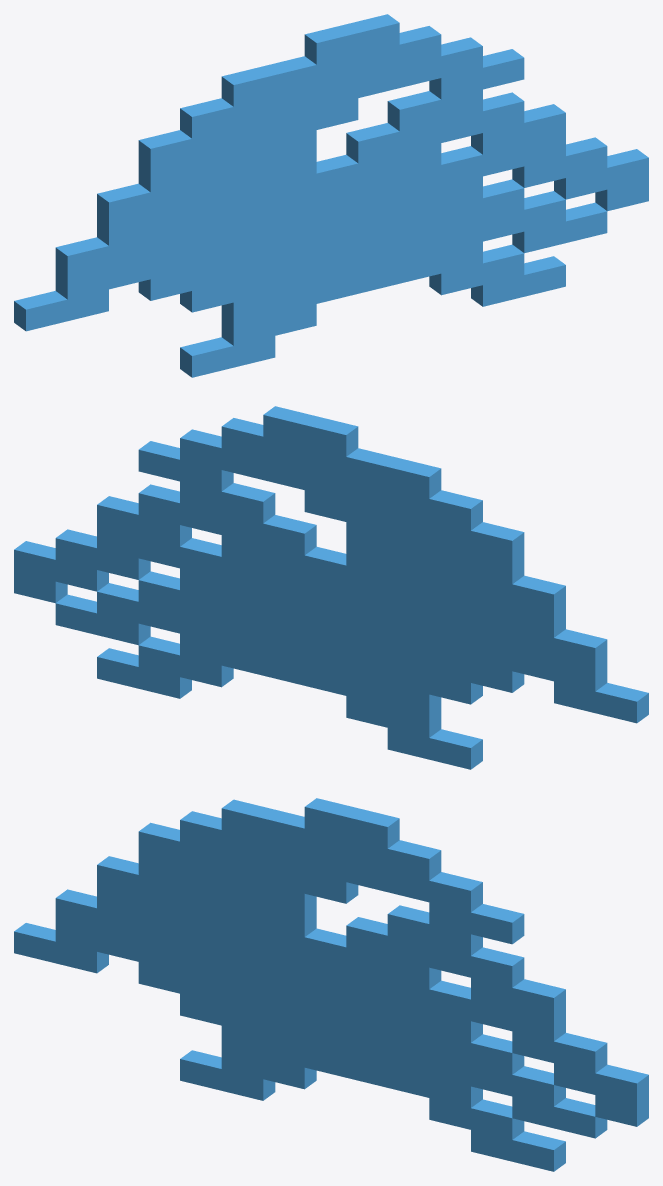
Rendered from Alligator-Blue.vox.obj.
The picture shows the model from 3 angles, top to bottom: view 1: azimuth 30°, elevation 25°; view 2: azimuth 150°, elevation 25°; view 3: azimuth 330°, elevation 25°; orthographic projection.
Bounding box in the file's own units: 3 × 1.4 × 0.1.
1 material, 1 textured.
